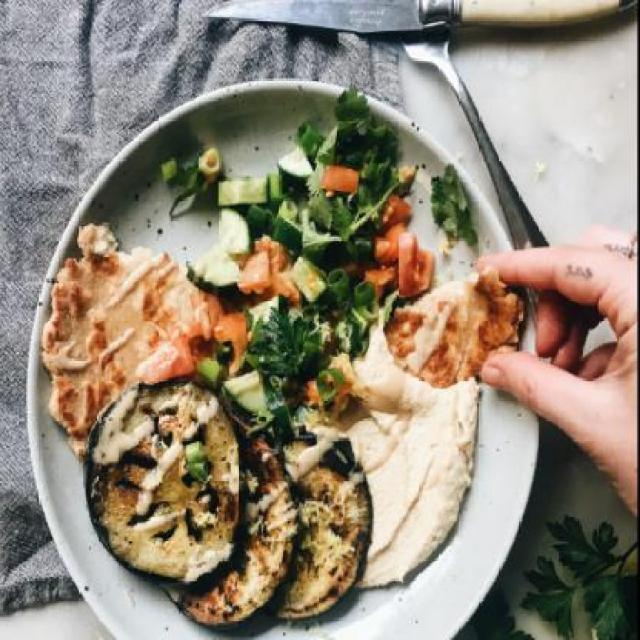eggplant: (87, 391, 356, 611)
hummus: (303, 373, 479, 589)
